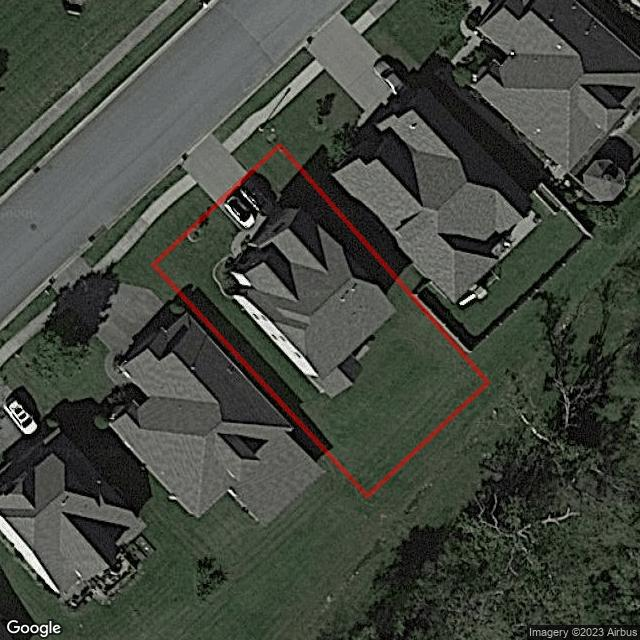Driveway: (220, 177, 280, 257)
Extra Driveway: (184, 136, 245, 200)
Extra Lawn: (135, 181, 215, 263), (114, 162, 189, 236), (230, 126, 279, 170), (210, 106, 249, 145)
Extra Sidewalk: (126, 174, 199, 244), (222, 119, 258, 152)
House: (229, 206, 398, 401)
